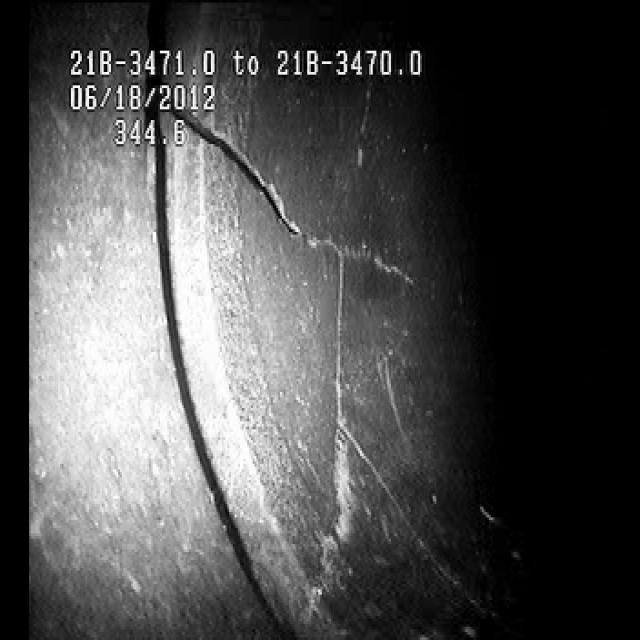Crack: (216, 115, 340, 268)
